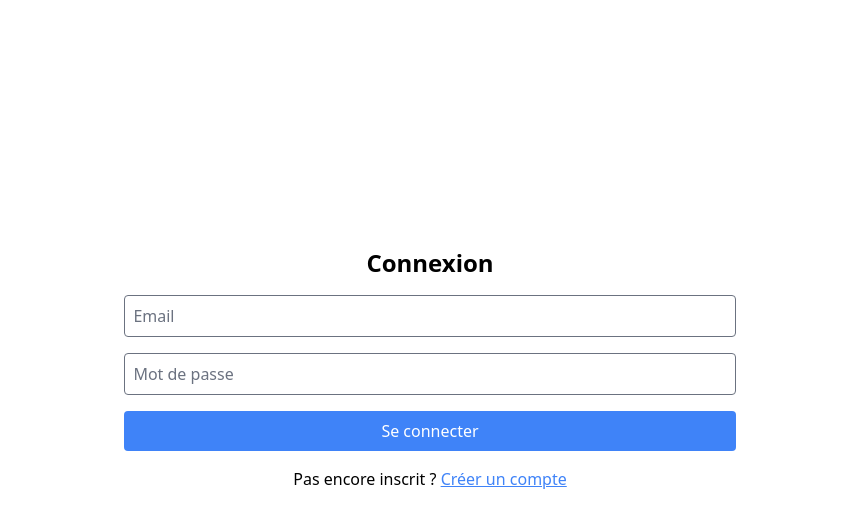
it: Admin Login Test › should successfully log in as an admin
Note: Remplit le formulaire de connexion
Type "admin@example.com" into the field with placeholder "Email".
click(430, 316); type("admin@example.com")  # box 124,295 -> 735,337
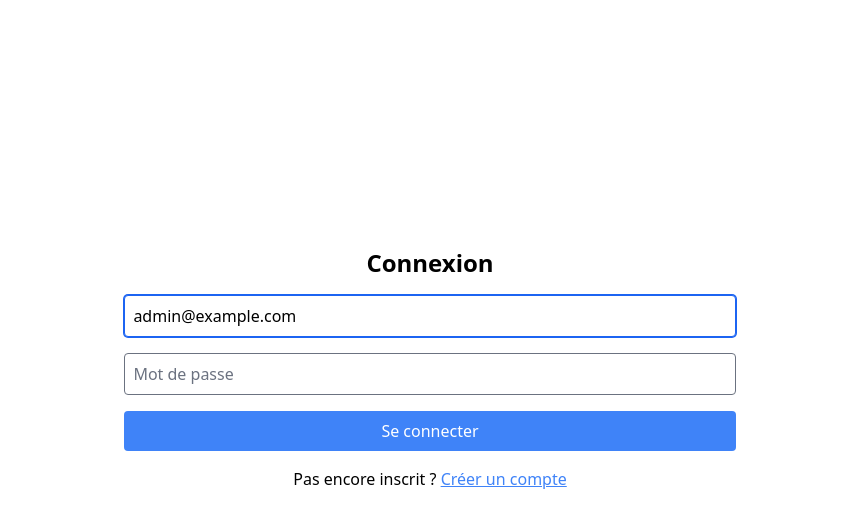
Type "adminpassword" into the password field with placeholder "Mot de passe".
click(430, 374); type("adminpassword")  # box 124,353 -> 735,395
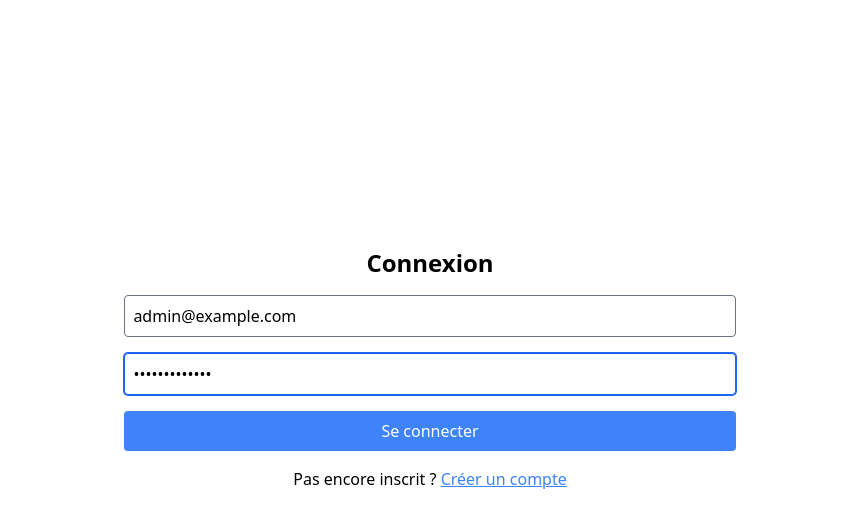
Note: Soumet le formulaire
Click the button "Se connecter".
click(430, 431)  # box 124,411 -> 735,451
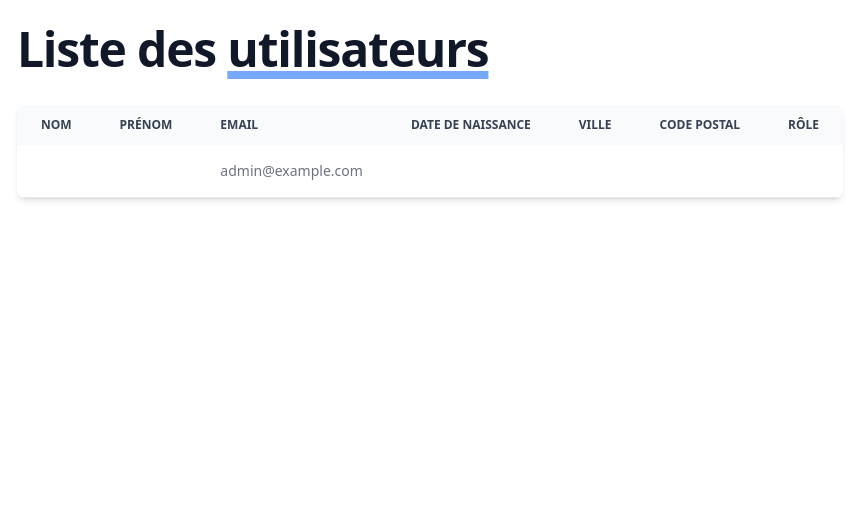
Now the heading "Liste des utilisateurs" is shown, box 17,16 -> 488,81
Now the text "admin@example.com" is shown, box 196,145 -> 387,198
